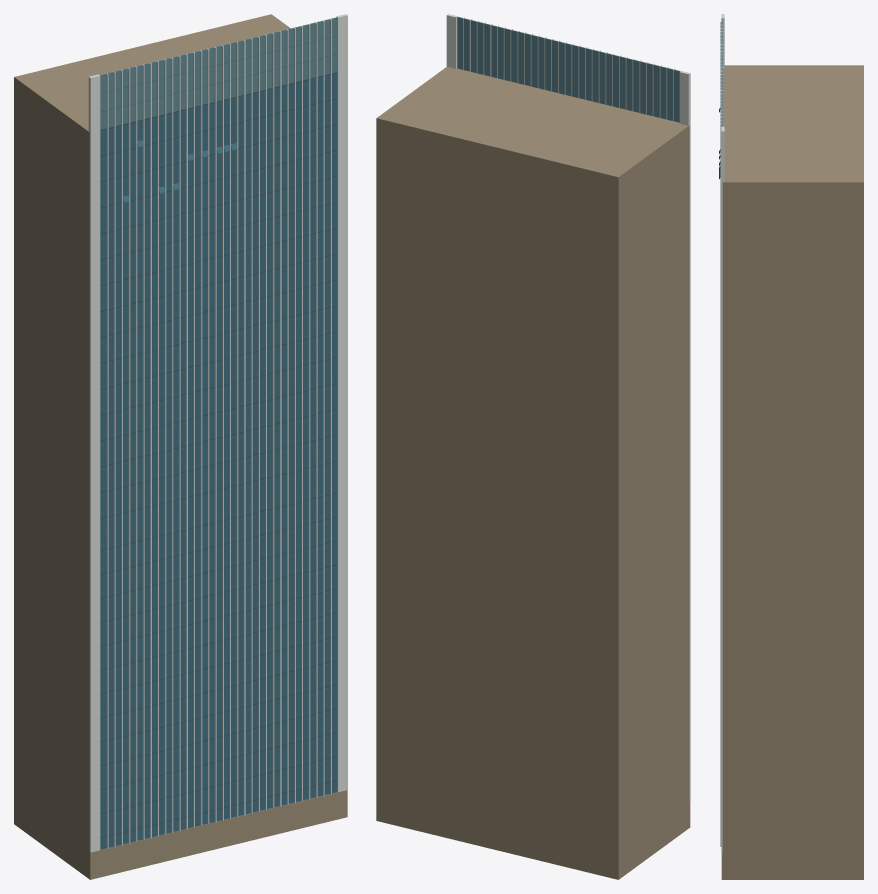
Rendered from light.glb.
The picture shows the model from 3 angles, left to right: view 1: azimuth 30°, elevation 25°; view 2: azimuth 150°, elevation 25°; view 3: azimuth 270°, elevation 25°; orthographic projection. The views are drawn at different scales.
Parts seen in each view (by area): view 1: F_glass_band_00_bay_00, Closed_backing_HOLD_rear_depth_roof, F_internal_silver_blade_01, F_left_wide_terminal_pier, F_crown_screen_00; view 2: Closed_backing_HOLD_rear_depth_roof, F_crown_screen_00, F_internal_silver_blade_01, F_left_wide_terminal_pier; view 3: Closed_backing_HOLD_rear_depth_roof, F_left_wide_terminal_pier, F_internal_silver_blade_01.
Boxes of the visible parts, <box> form: F_glass_band_00_bay_00: <box>100,73,337,849</box>; Closed_backing_HOLD_rear_depth_roof: <box>14,14,347,879</box>; F_internal_silver_blade_01: <box>106,18,331,848</box>; F_left_wide_terminal_pier: <box>88,14,347,852</box>; F_crown_screen_00: <box>100,17,337,129</box>; Closed_backing_HOLD_rear_depth_roof: <box>376,67,690,879</box>; F_crown_screen_00: <box>457,17,680,122</box>; F_internal_silver_blade_01: <box>463,17,675,121</box>; F_left_wide_terminal_pier: <box>446,14,690,801</box>; Closed_backing_HOLD_rear_depth_roof: <box>721,65,863,879</box>; F_left_wide_terminal_pier: <box>721,14,724,854</box>; F_internal_silver_blade_01: <box>720,21,722,846</box>.
Size of the model in its own units: 39.3 by 117 by 20.52.
